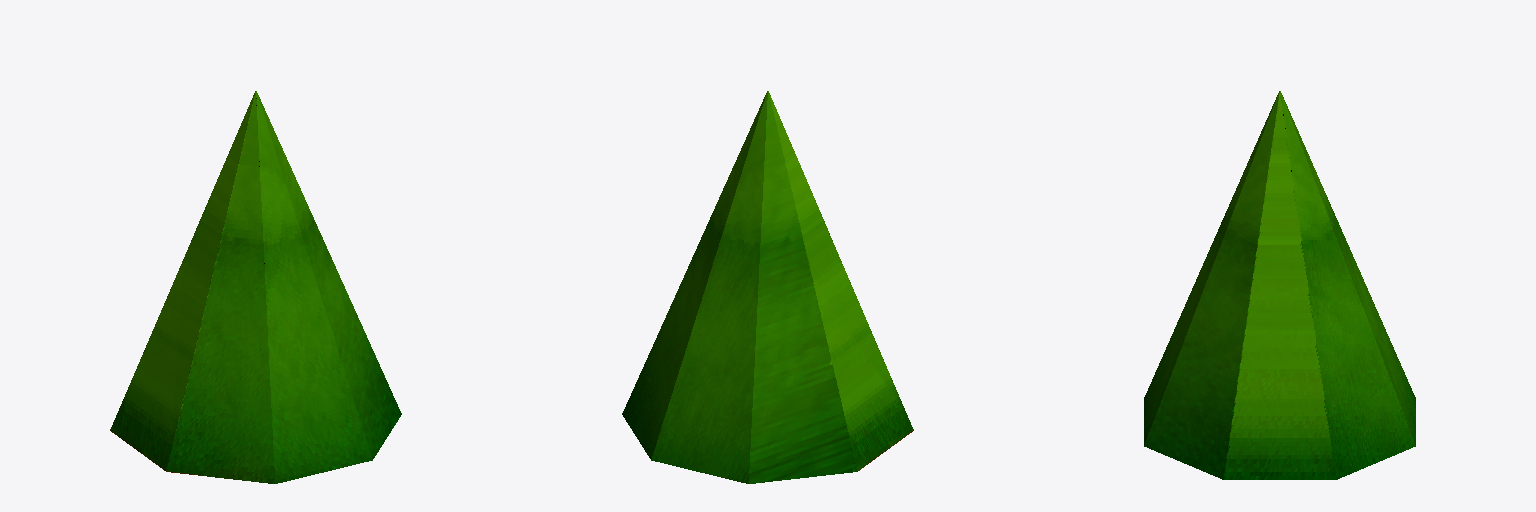
3 views of the same model, side by side, from view 1: azimuth 30°, elevation 25°; view 2: azimuth 150°, elevation 25°; view 3: azimuth 270°, elevation 25° (orthographic).
Parts seen in each view (by area): view 1: ground.005_Cube.007; view 2: ground.005_Cube.007; view 3: ground.005_Cube.007.
Boxes of the visible parts, x1,y1,x2,y2 form: ground.005_Cube.007: [110, 91, 401, 483]; ground.005_Cube.007: [622, 91, 913, 483]; ground.005_Cube.007: [1144, 91, 1415, 479].
Bounding box in the file's own units: 7.32 × 9.89 × 7.32.
1 materials, 1 textured.